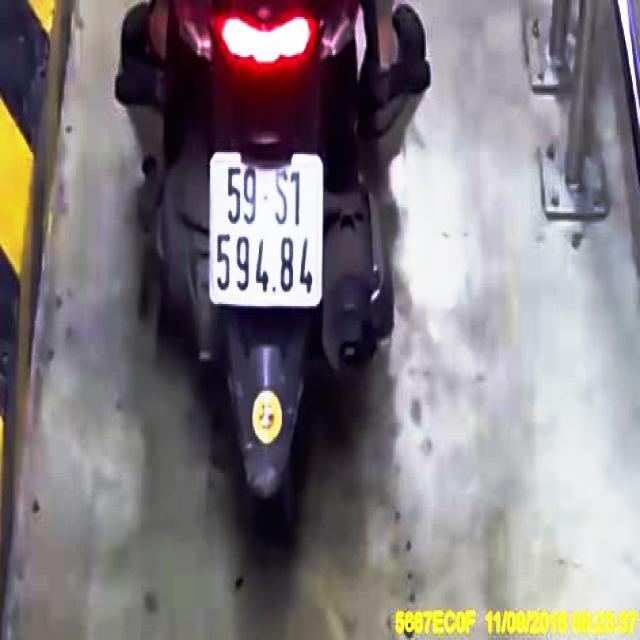license_plate: (212, 151, 322, 305)
